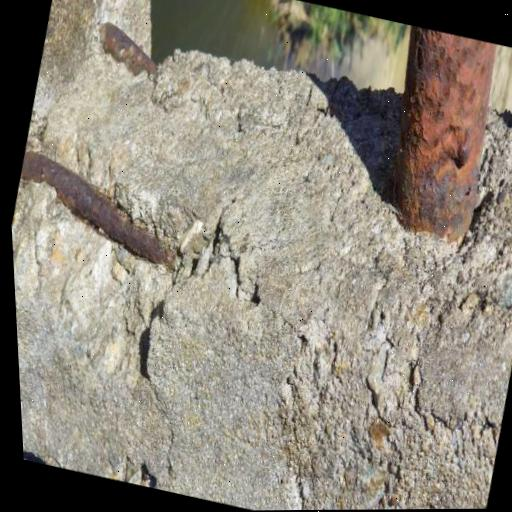exposed_rebar: (21, 151, 176, 270), (100, 22, 158, 77)
